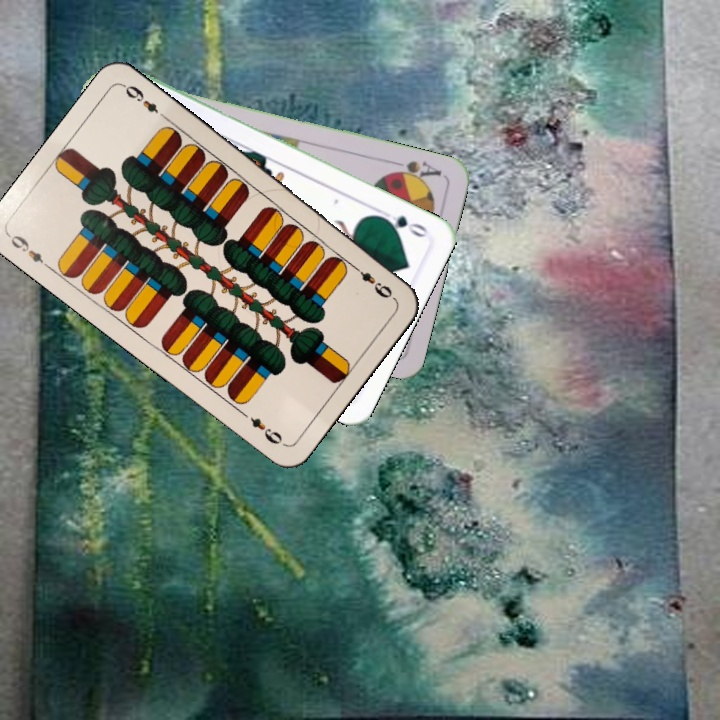E9: (4, 230, 54, 273), (347, 260, 397, 302)
GO: (374, 206, 430, 240)
SA: (385, 156, 444, 185)
